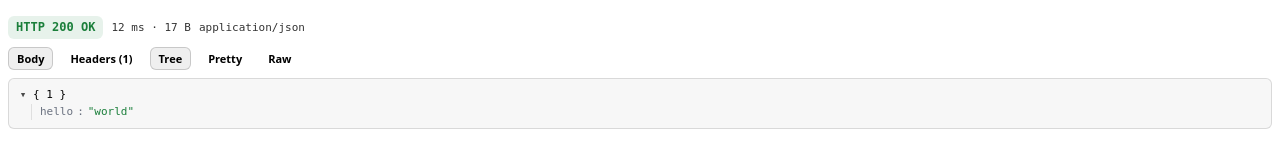
ResponseView › switches to raw and keeps the original text
The image size is (1280, 160).
Click the button "Raw" at (280, 58), box [259,47,300,70]
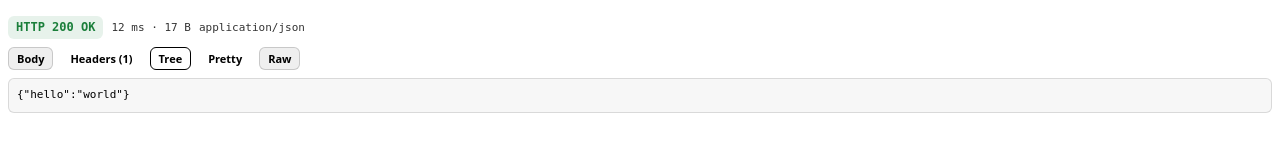
Expected: the text "{\"hello\":\"world\"}" is shown, [8,78,1272,113]
